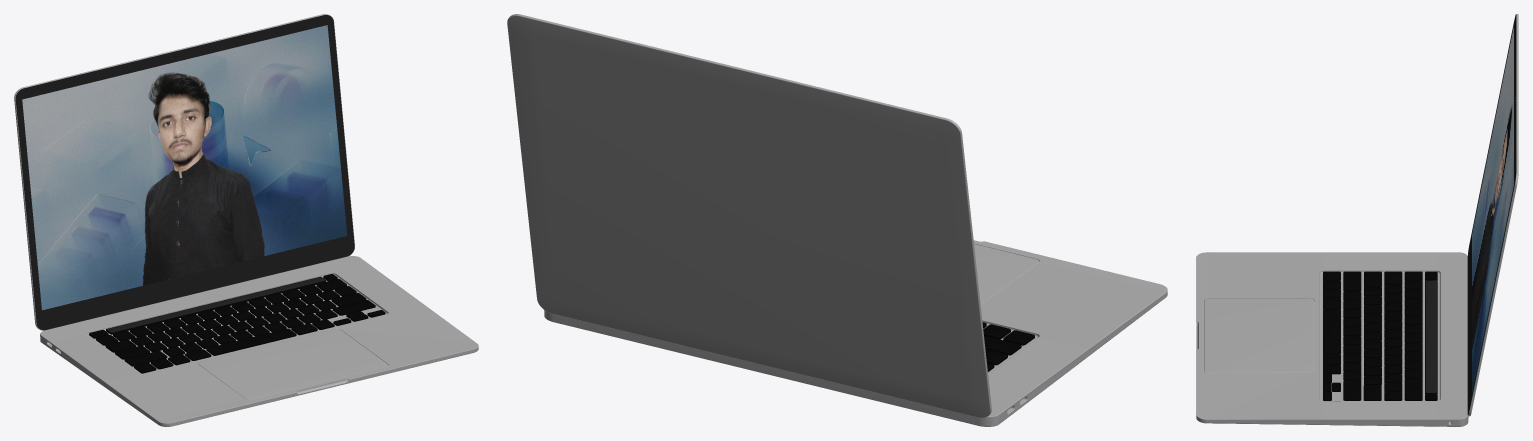
Rendered from macbook.gltf.
3 views of the same model, side by side, from view 1: azimuth 30°, elevation 25°; view 2: azimuth 150°, elevation 25°; view 3: azimuth 270°, elevation 25° (orthographic). The views are drawn at different scales.
Parts seen in each view (by area): view 1: Cube.016, Cube.021, Cube.012, Cube.015; view 2: Cube.016, Cube.021, Cube.015, Cube.012; view 3: Cube.021, Cube.012, Cube.016, Cube.015.
Part boxes in pixels (box(x1,y1,x2,y2)): Cube.016: box(14, 14, 354, 330); Cube.021: box(40, 256, 478, 426); Cube.012: box(89, 274, 385, 373); Cube.015: box(198, 329, 388, 399); Cube.016: box(507, 14, 991, 417); Cube.021: box(544, 240, 1167, 426); Cube.015: box(974, 244, 1039, 304); Cube.012: box(982, 322, 1034, 371); Cube.021: box(1196, 252, 1468, 426); Cube.012: box(1323, 271, 1437, 400); Cube.016: box(1467, 14, 1518, 416); Cube.015: box(1204, 298, 1314, 372).
Bounding box in the file's own units: 0.8087 × 0.5658 × 0.6592.
8 materials, 2 textured.
